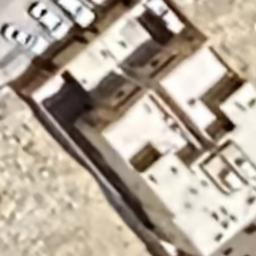SUV: (54, 1, 98, 29)
sedan: (26, 1, 72, 42), (0, 22, 50, 56)
